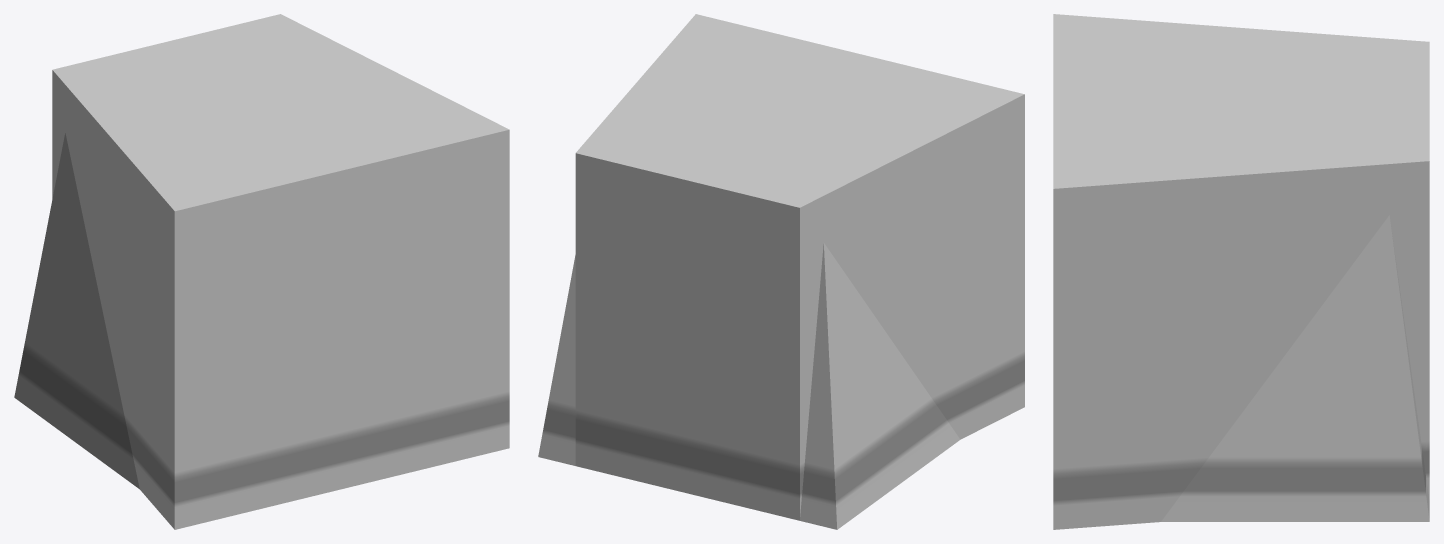
The model's file is White Simple.glb.
The picture shows the model from 3 angles, left to right: view 1: azimuth 30°, elevation 25°; view 2: azimuth 150°, elevation 25°; view 3: azimuth 270°, elevation 25°; orthographic projection. The views are drawn at different scales.
Visible parts, largest first — view 1: Flat, Cap; view 2: Flat, Cap; view 3: Flat, Cap.
Part boxes in pixels (x1,y1,x2,y2): Flat: (52,14,509,529); Cap: (14,30,427,488); Flat: (575,14,1024,520); Cap: (538,42,960,529); Flat: (1053,14,1429,529); Cap: (1100,41,1429,521).
Bounding box in the file's own units: 1.1 × 1 × 1.
2 materials, 2 textured.
